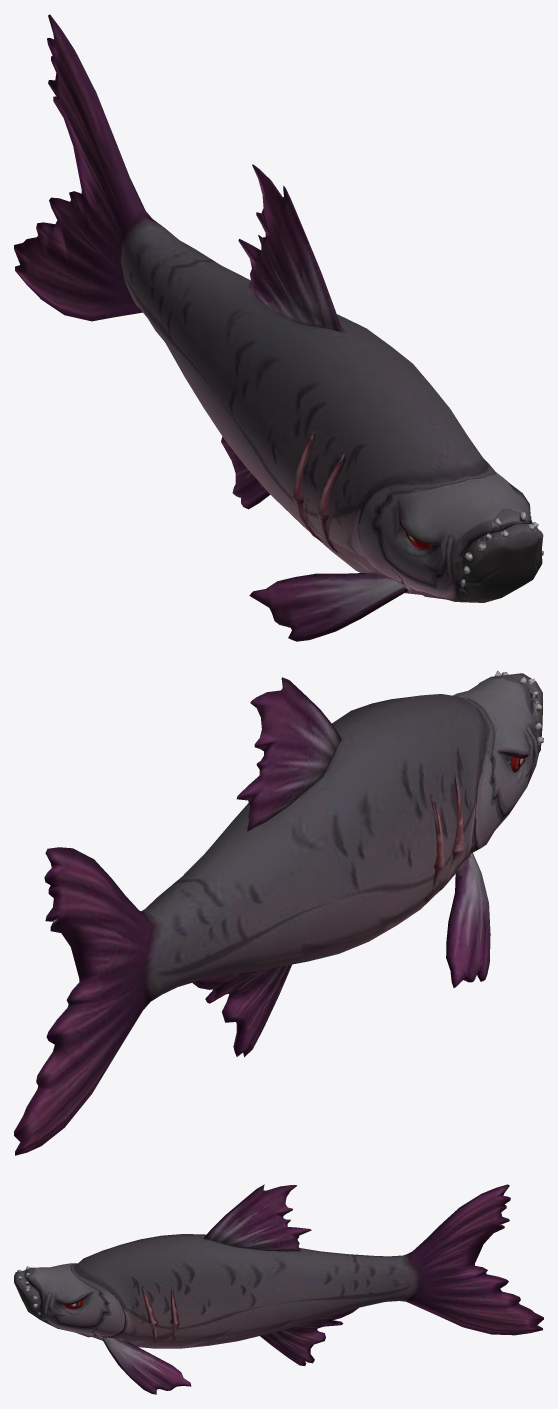
3 views of the same model, one above another, from view 1: azimuth 30°, elevation 25°; view 2: azimuth 150°, elevation 25°; view 3: azimuth 270°, elevation 25° (orthographic). The views are drawn at different scales.
Visible parts, largest first — view 1: yu23; view 2: yu23; view 3: yu23.
Part boxes in pixels (box(x1,y1,x2,y2)): yu23: box(14, 14, 543, 641); yu23: box(14, 670, 543, 1155); yu23: box(14, 1184, 543, 1394).
Bounding box in the file's own units: 31.45 × 50.2 × 130.
1 material, 1 textured.
